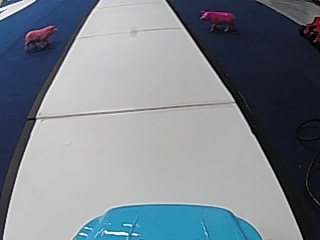pig: (197, 8, 236, 33), (23, 22, 56, 51)
